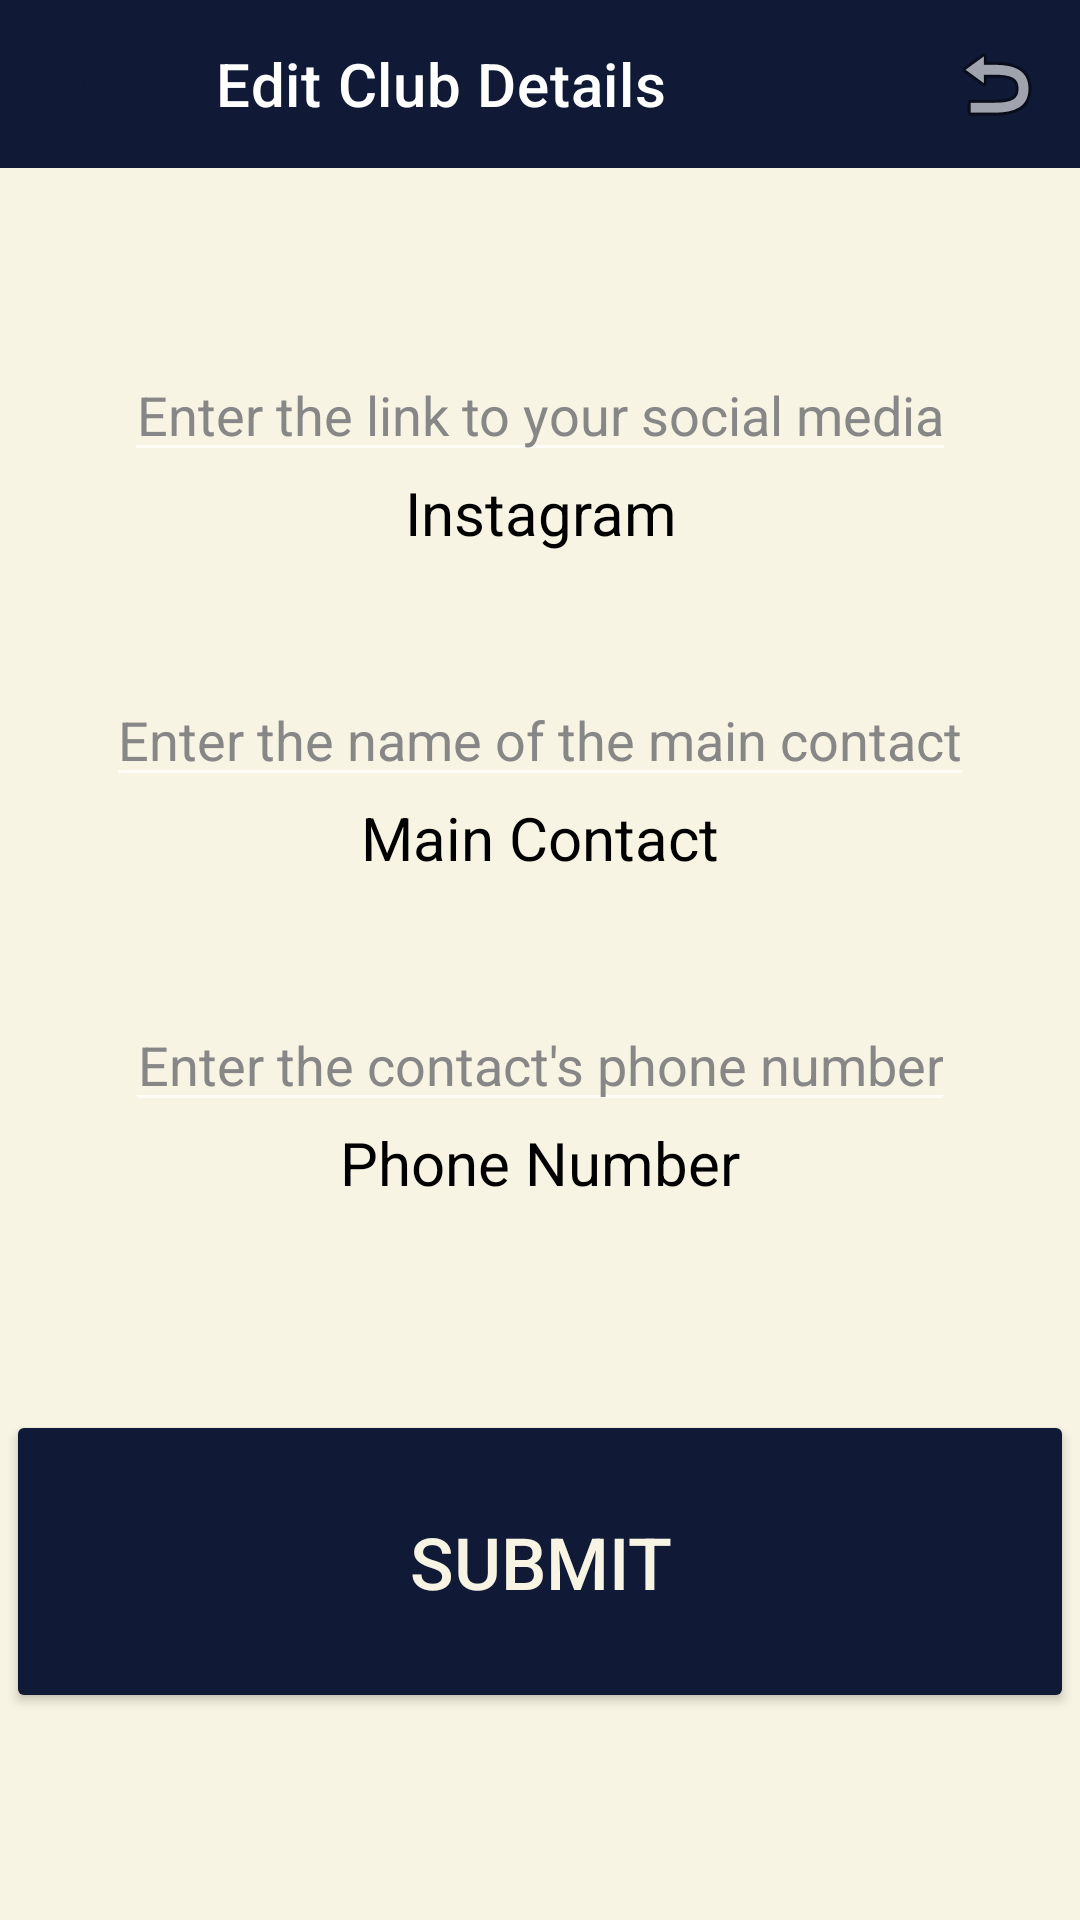

Named icons in this screenshot (1080 × 1920) and their bounding boxes, region(x1, y1, x2, y2):
revert: region(965, 55, 1030, 114)
